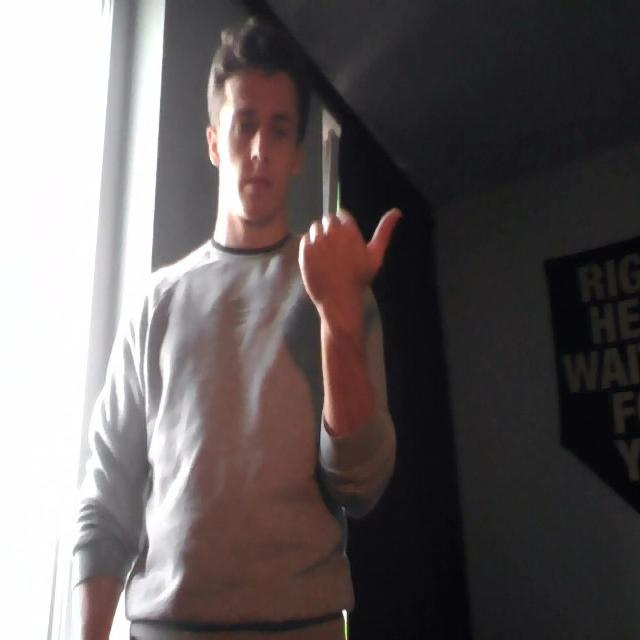right: (296, 194, 410, 301)
